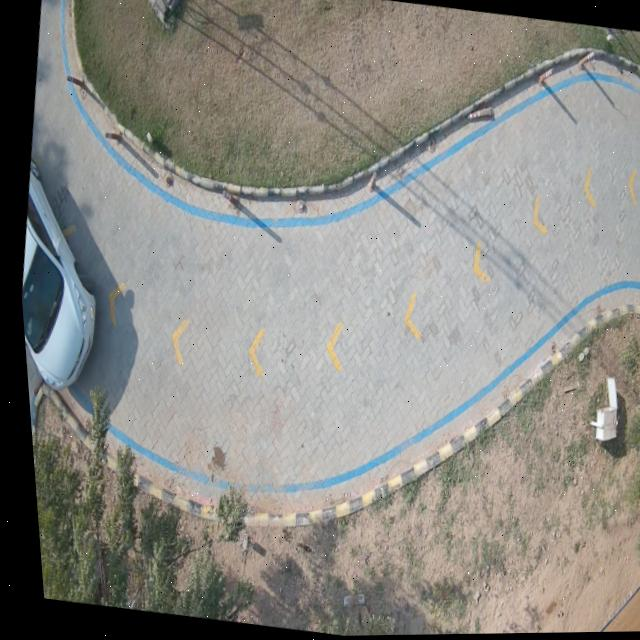car: (17, 161, 90, 388)
